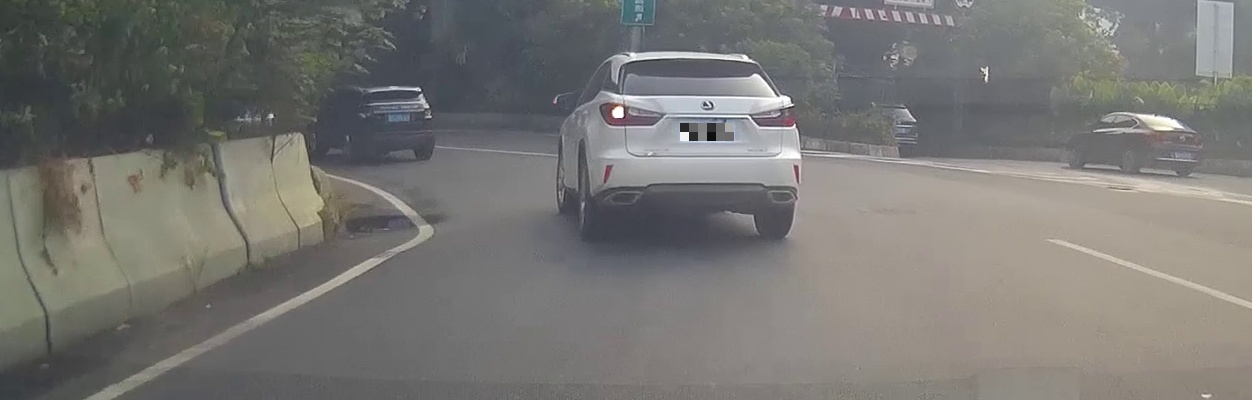L_light: (599, 103, 666, 127), (1143, 131, 1163, 140), (360, 114, 382, 122)
R_light: (749, 104, 796, 128), (416, 110, 433, 120), (1191, 135, 1199, 144)
T_light: (683, 58, 711, 64), (385, 90, 401, 94), (1151, 116, 1162, 120)
day-left: (595, 52, 801, 238)
day-no: (354, 86, 435, 160), (1129, 112, 1202, 177)
plate_1: (680, 123, 734, 141)
